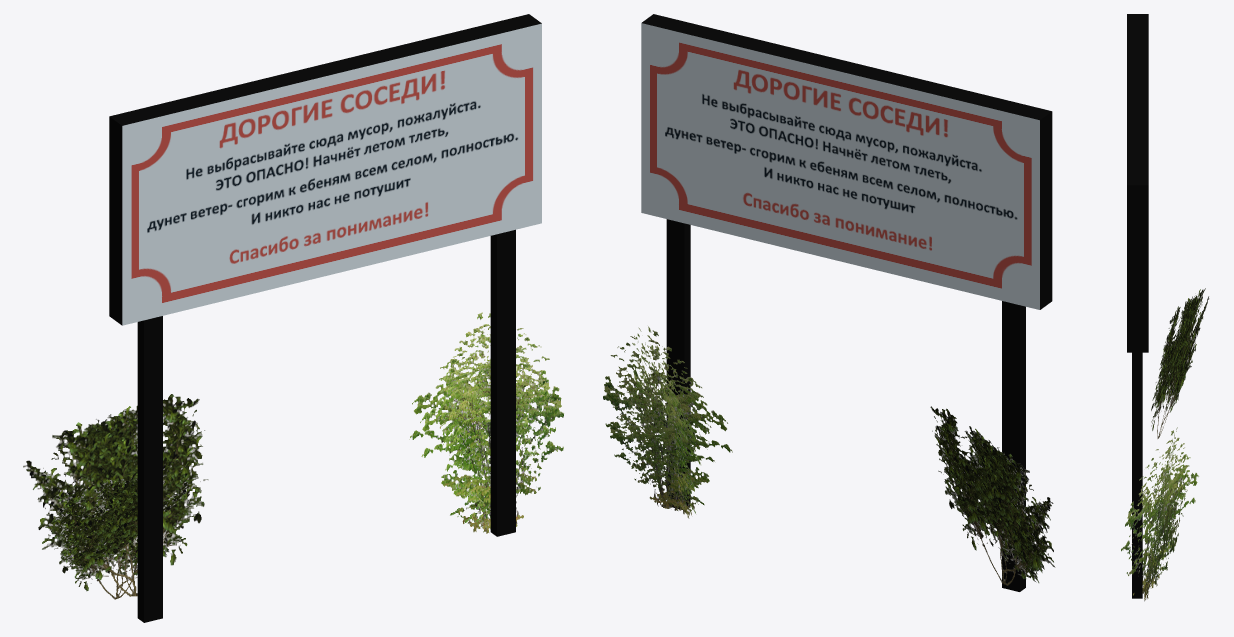
Rendered from tablichka.FBX.
3 renders of one model, left to right at view 1: azimuth 30°, elevation 25°; view 2: azimuth 150°, elevation 25°; view 3: azimuth 270°, elevation 25°, orthographic. The views are drawn at different scales.
Parts seen in each view (by area): view 1: tablichka; view 2: tablichka; view 3: tablichka.
Boxes of the visible parts, x1,y1,x2,y2 form: tablichka: (23,14,563,622); tablichka: (603,14,1055,591); tablichka: (1121,14,1209,601).
Bounding box in the file's own units: 296 × 276 × 64.37.
